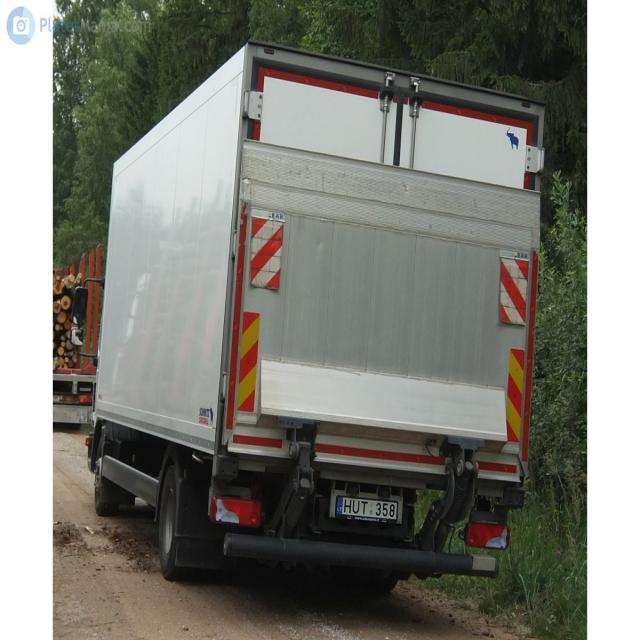License-plate: (333, 492, 399, 525)
